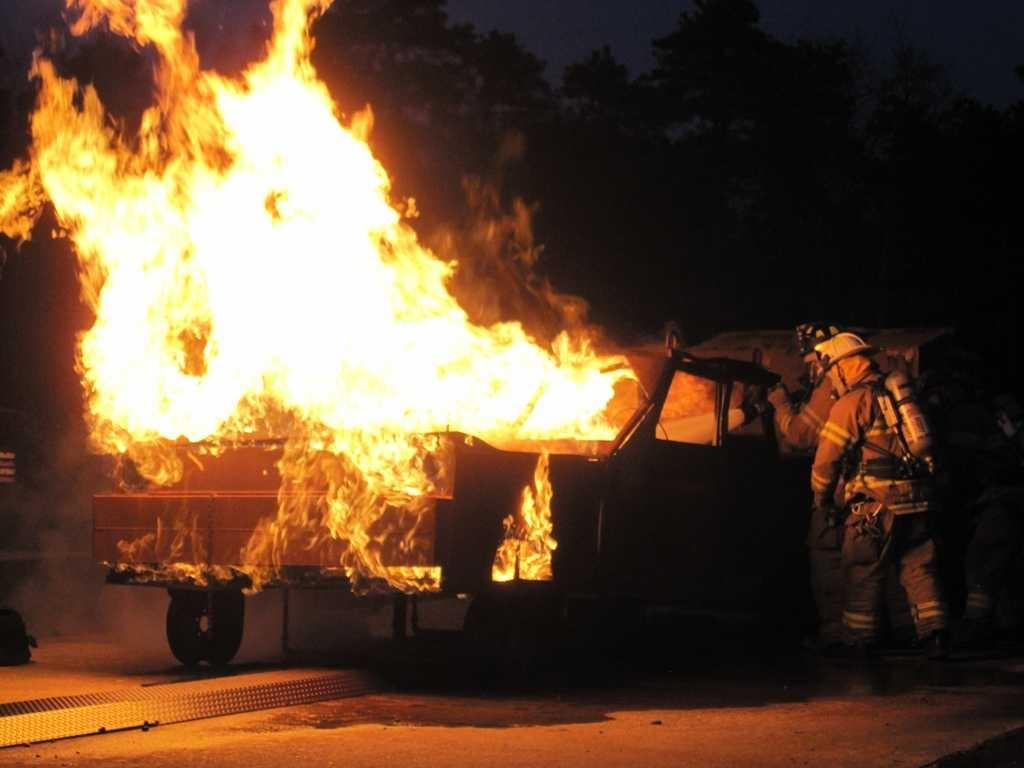fire: (102, 202, 388, 420), (230, 98, 336, 194), (410, 340, 524, 416)
